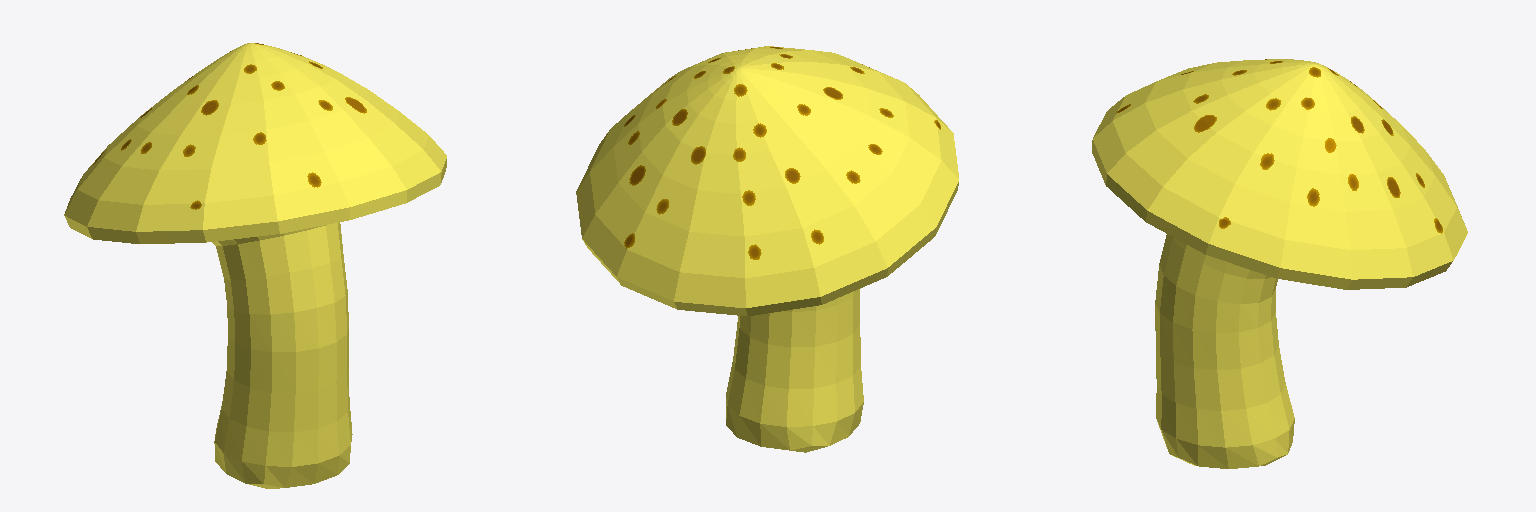
3 views of the same model, side by side, from view 1: azimuth 30°, elevation 25°; view 2: azimuth 150°, elevation 25°; view 3: azimuth 270°, elevation 25° (orthographic).
Parts seen in each view (by area): view 1: Circle; view 2: Circle; view 3: Circle.
Part boxes in pixels (x1,y1,x2,y2): Circle: (64, 43, 446, 488); Circle: (576, 46, 958, 452); Circle: (1092, 59, 1467, 468).
Bounding box in the file's own units: 0.6831 × 0.7627 × 0.6601.
Materials: 1 (1 with a texture image).